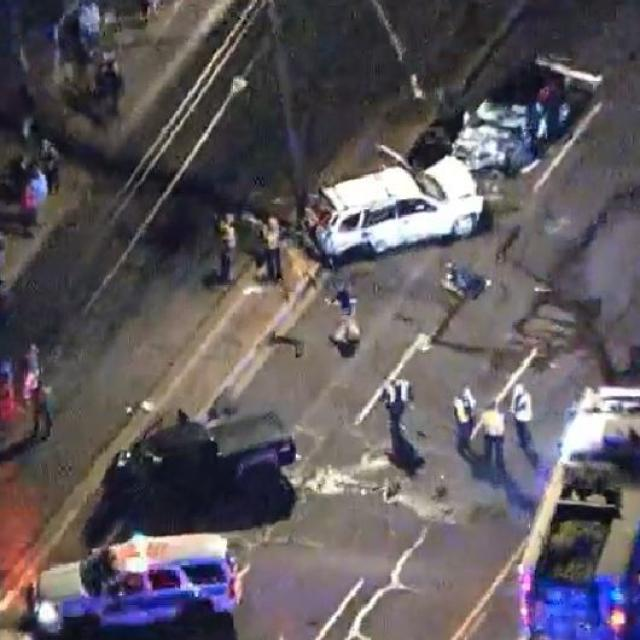traffic_incident: (297, 128, 461, 281), (450, 47, 586, 178)
